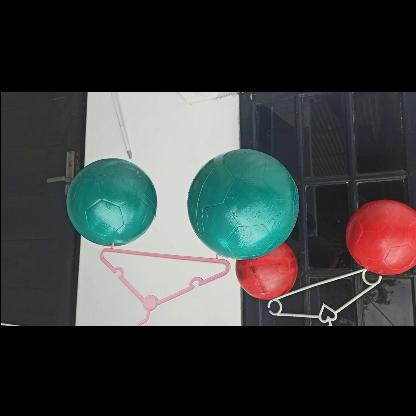red_ball: (347, 199, 415, 278)
